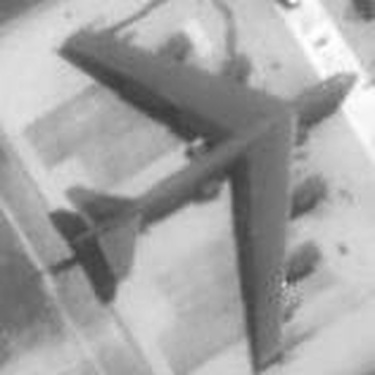airplane: (31, 5, 358, 373)
